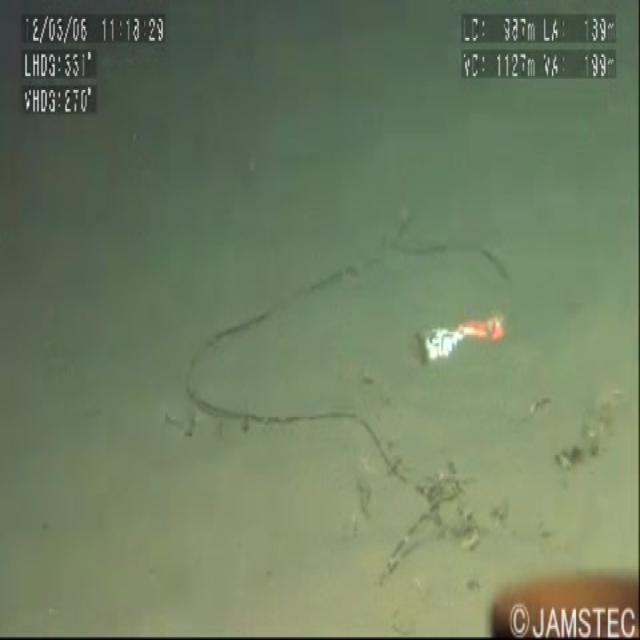Litter: (402, 290, 524, 395)
